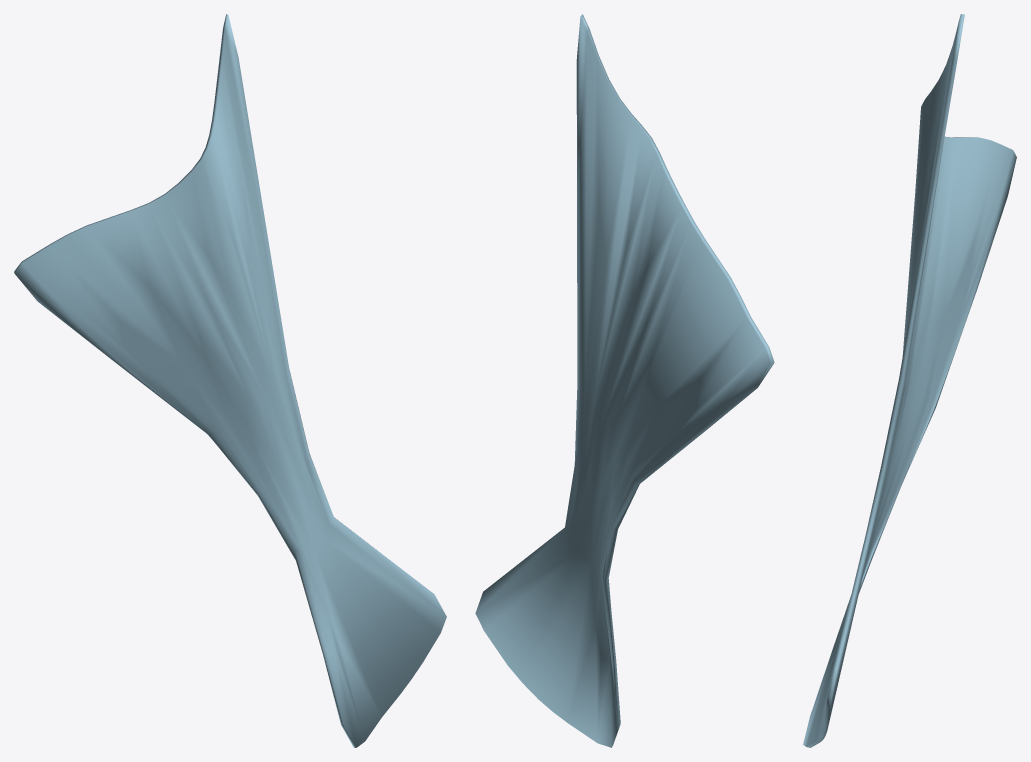
File: articulacoes-sacrotuberous-ligament-l.glb
The picture shows the model from 3 angles, left to right: view 1: azimuth 30°, elevation 25°; view 2: azimuth 150°, elevation 25°; view 3: azimuth 270°, elevation 25°; orthographic projection. The views are drawn at different scales.
Parts seen in each view (by area): view 1: Sacrotuberous ligament.l; view 2: Sacrotuberous ligament.l; view 3: Sacrotuberous ligament.l.
Part boxes in pixels (x1=…): Sacrotuberous ligament.l: x1=14, y1=14, x2=446, y2=747; Sacrotuberous ligament.l: x1=475, y1=14, x2=774, y2=747; Sacrotuberous ligament.l: x1=803, y1=14, x2=1016, y2=747.
Bounding box in the file's own units: 0.0464 × 0.0894 × 0.0246.
